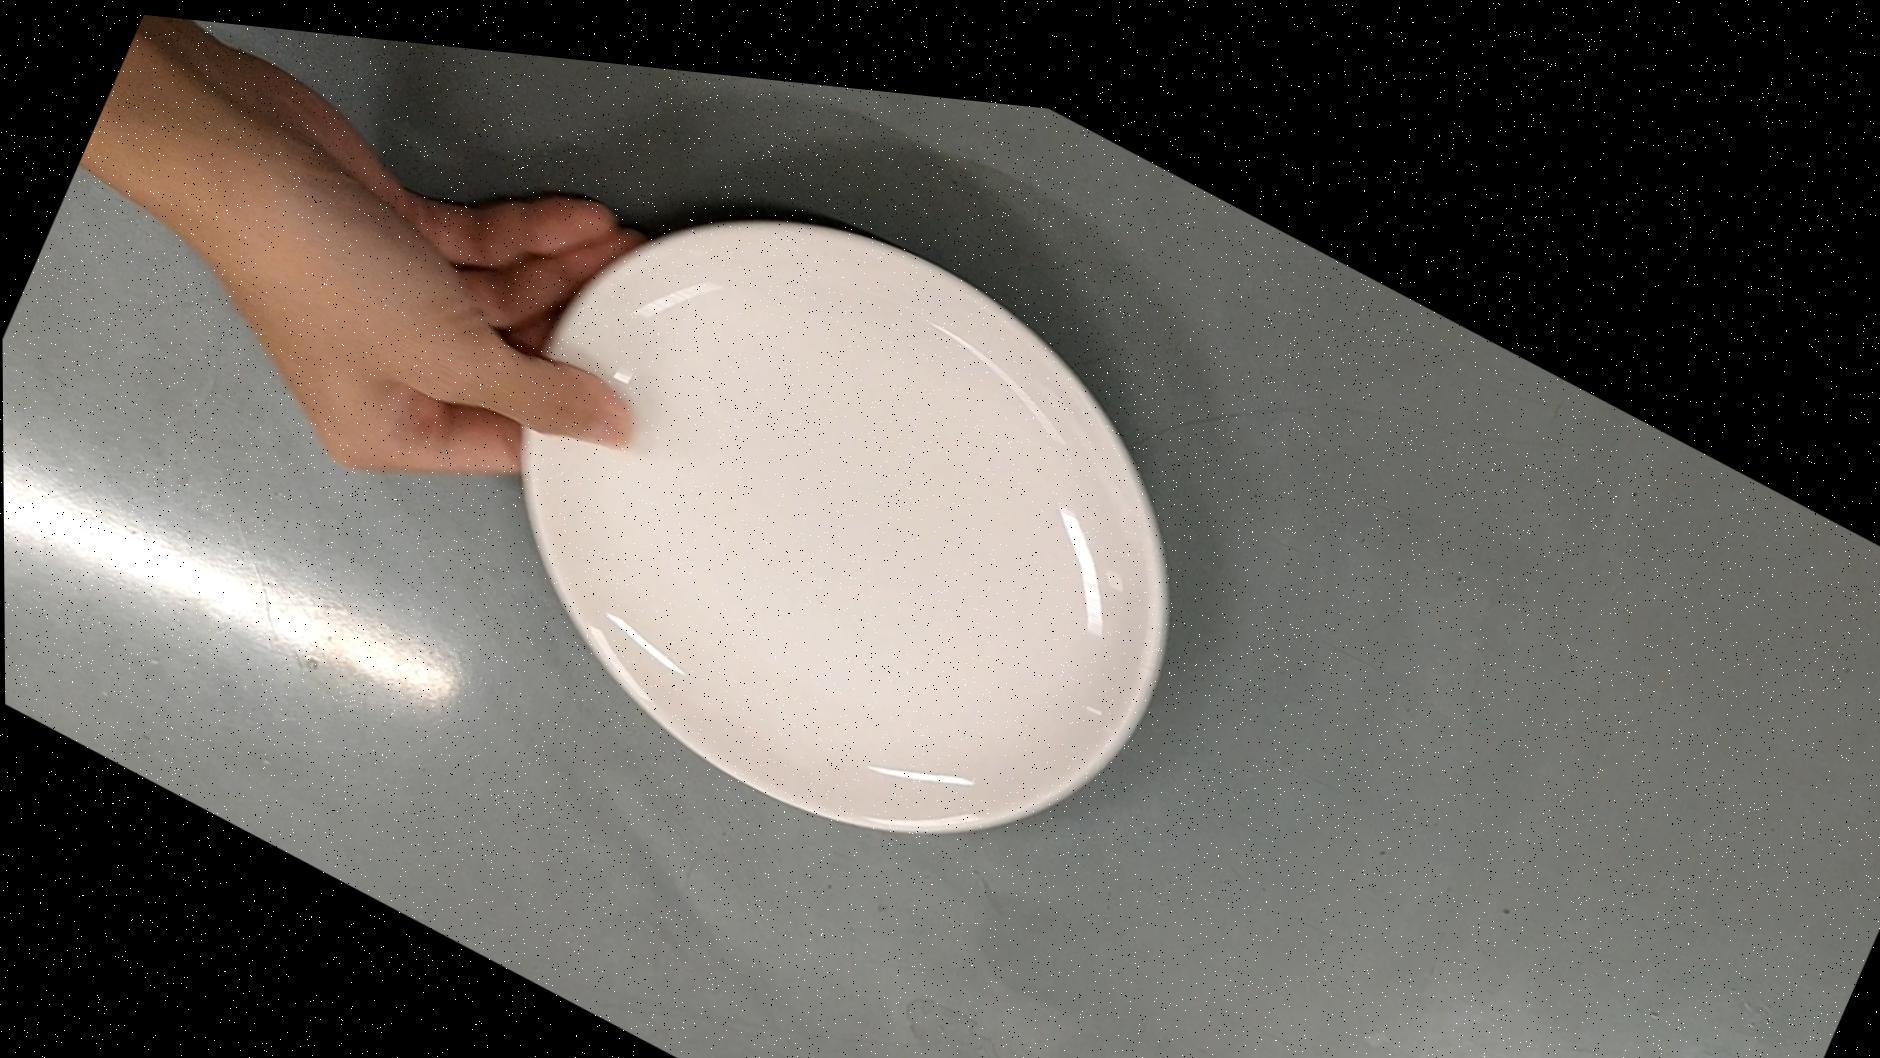plate: (421, 78, 1264, 945)
